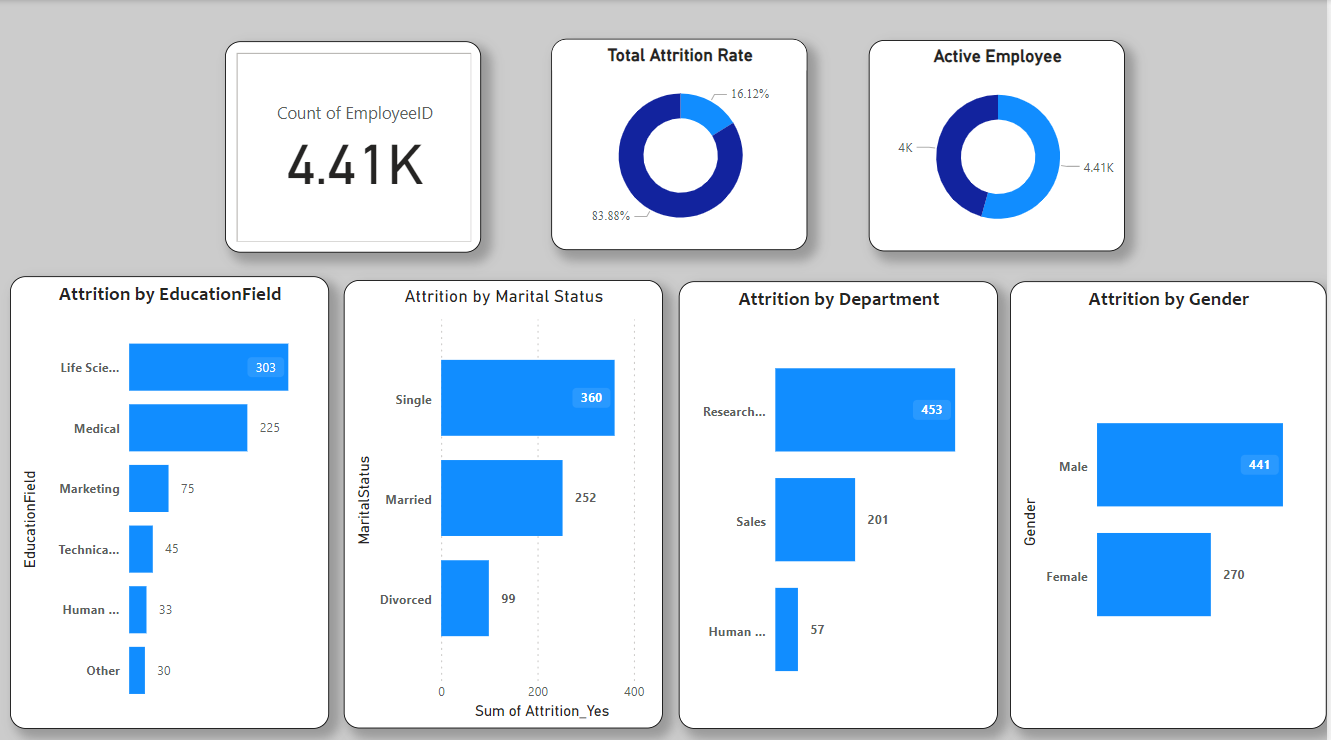

What the dashboard file says about the page in this screenshot:
{"tool":"powerbi","page":{"name":"Page 1","canvas":[1280,720],"ordinal":0},"visuals":[{"type":"cardVisual","fields":{"Data":["CountNonNull(Attrition data.EmployeeID)"]},"box":[217.2,39.8,247.3,203.9],"z":0},{"type":"donutChart","title":"Total Attrition Rate","fields":{"Category":["Attrition data.Attrition"],"Y":["Sum(Attrition data.Attrition_Yes)","Sum(Attrition data.Attrition_No)"]},"box":[532,37.4,247.3,203.9],"z":1000},{"type":"donutChart","title":"Active Employee","fields":{"Y":["CountNonNull(Attrition data.EmployeeID)","Sum(Attrition data.Attrition_No)"]},"box":[838.5,38.6,247.3,203.9],"z":2000},{"type":"clusteredBarChart","title":" Attrition by EducationField","fields":{"Category":["Attrition data.EducationField"],"Y":["Sum(Attrition data.Attrition_Yes)"]},"box":[9.7,266.6,307.6,436.7],"z":3000},{"type":"clusteredBarChart","title":"Attrition by Marital Status","fields":{"Category":["Attrition data.MaritalStatus"],"Y":["Sum(Attrition data.Attrition_Yes)"]},"box":[331.8,270.2,307.6,433.1],"z":4000},{"type":"clusteredBarChart","title":"Attrition by Department","fields":{"Y":["Sum(Attrition data.Attrition_Yes)"],"Category":["Attrition data.Department"]},"box":[655.1,271.4,307.6,431.9],"z":5000},{"type":"clusteredBarChart","title":"Attrition by Gender","fields":{"Y":["Sum(Attrition data.Attrition_Yes)"],"Category":["Attrition data.Gender"]},"box":[974.8,271.4,305.2,431.9],"z":6000}]}

Visuals, with their boxes in screenshot pixels (x1, y1, x2, y2), scaled from the page's 1280x720 canvas onto the 1331x740 screenshot:
cardVisual - CountNonNull(Attrition data.EmployeeID): pyautogui.locateOnScreen(226, 41, 483, 250)
"Total Attrition Rate" donutChart: pyautogui.locateOnScreen(553, 38, 810, 248)
"Active Employee" donutChart: pyautogui.locateOnScreen(872, 40, 1129, 249)
" Attrition by EducationField" clusteredBarChart: pyautogui.locateOnScreen(10, 274, 330, 723)
"Attrition by Marital Status" clusteredBarChart: pyautogui.locateOnScreen(345, 278, 665, 723)
"Attrition by Department" clusteredBarChart: pyautogui.locateOnScreen(681, 279, 1001, 723)
"Attrition by Gender" clusteredBarChart: pyautogui.locateOnScreen(1014, 279, 1330, 723)
